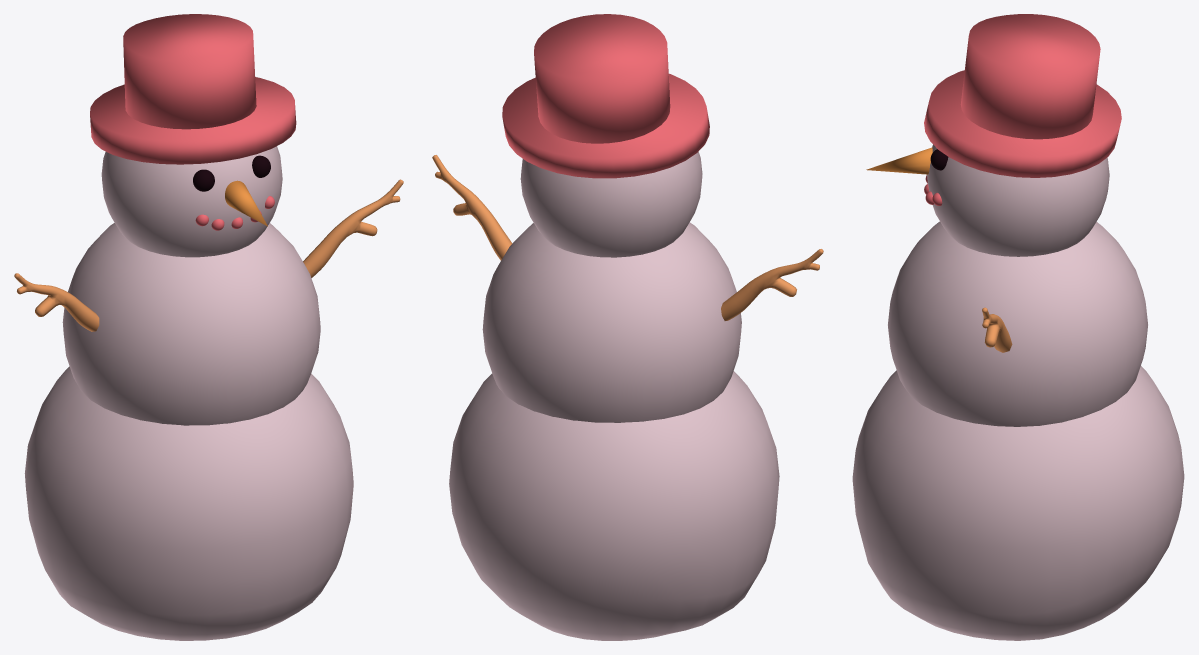
File: SnowmanHappyThree.fbx
3 renders of one model, left to right at view 1: azimuth 30°, elevation 25°; view 2: azimuth 150°, elevation 25°; view 3: azimuth 270°, elevation 25°, orthographic.
Visible parts, largest first — view 1: Sphere.002, Sphere, Hat Top, Sphere.001, Hat Rim, Vert.002, Cone; view 2: Sphere.002, Sphere, Hat Top, Sphere.001, Hat Rim, Vert.002; view 3: Sphere.002, Sphere, Hat Top, Sphere.001, Hat Rim, Cone, Vert.002.
Part boxes in pixels (left/top/right/bottom): Sphere.002: left=24, top=366, right=353, bottom=640; Sphere: left=62, top=223, right=320, bottom=425; Hat Top: left=123, top=14, right=256, bottom=129; Sphere.001: left=101, top=146, right=282, bottom=257; Hat Rim: left=90, top=77, right=296, bottom=164; Vert.002: left=14, top=179, right=403, bottom=331; Cone: left=225, top=180, right=267, bottom=226; Sphere.002: left=449, top=371, right=779, bottom=640; Sphere: left=482, top=222, right=741, bottom=422; Hat Top: left=534, top=14, right=670, bottom=143; Sphere.001: left=520, top=152, right=702, bottom=257; Hat Rim: left=502, top=73, right=709, bottom=178; Vert.002: left=432, top=155, right=823, bottom=320; Sphere.002: left=852, top=366, right=1184, bottom=640; Sphere: left=888, top=221, right=1147, bottom=426; Hat Top: left=960, top=14, right=1100, bottom=139; Sphere.001: left=927, top=144, right=1109, bottom=256; Hat Rim: left=924, top=70, right=1121, bottom=177; Cone: left=866, top=147, right=932, bottom=174; Vert.002: left=982, top=307, right=1012, bottom=352.
Bounding box in the file's own units: 347 × 492 × 255.
